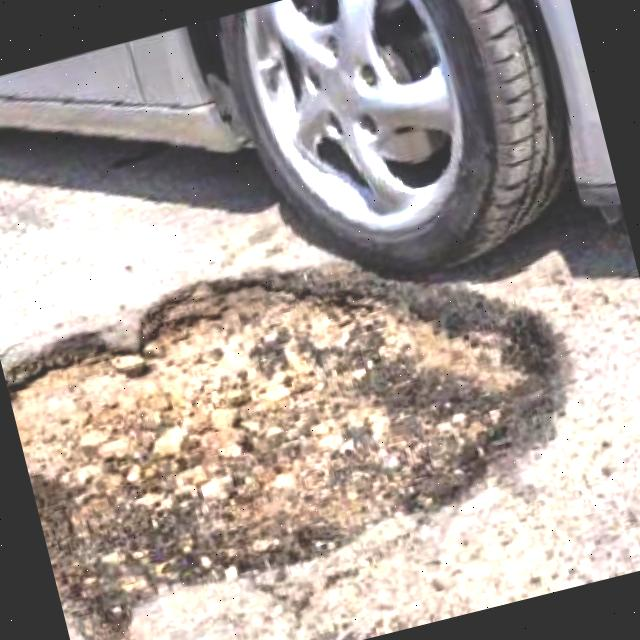pothole: (0, 186, 617, 633)
